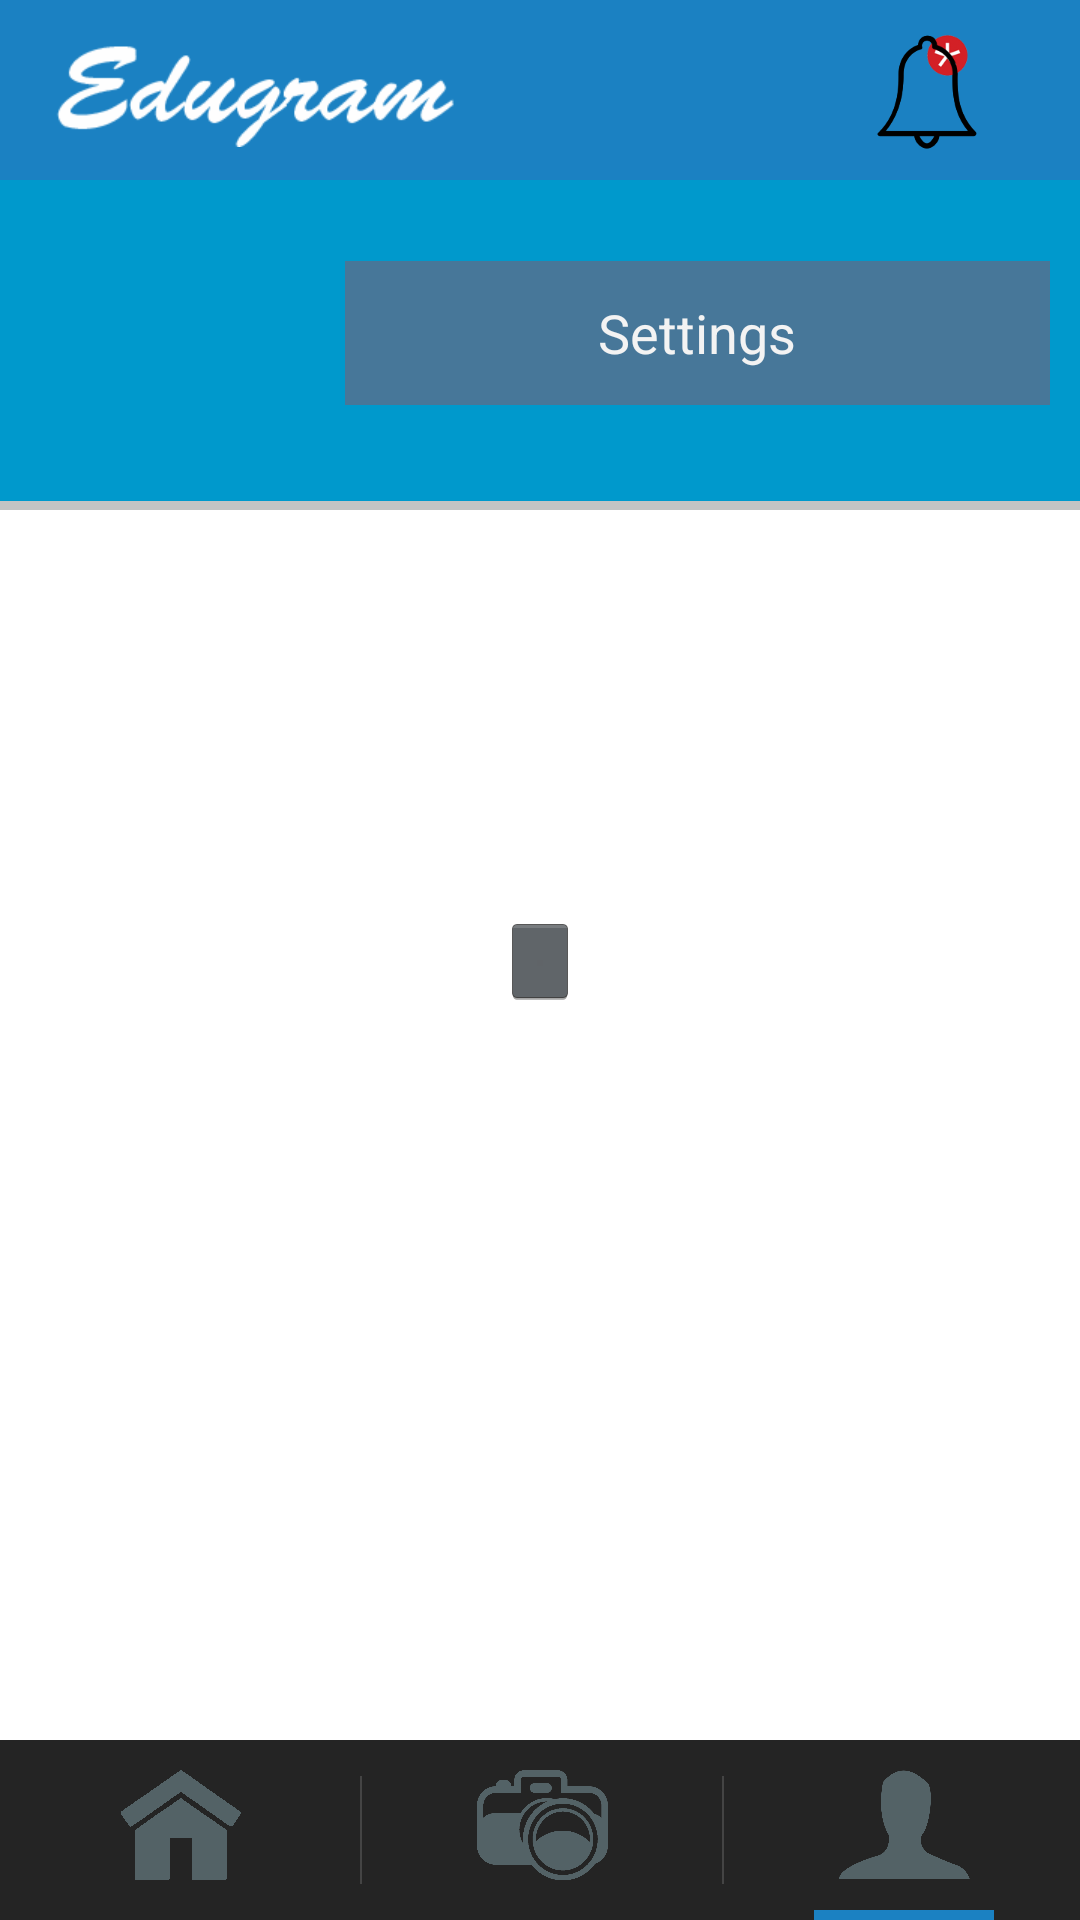

Icons on this 1080px x 1920px Android screen, each with the point to tap as point (x, y):
camera: point (542, 1825)
home: point (181, 1825)
